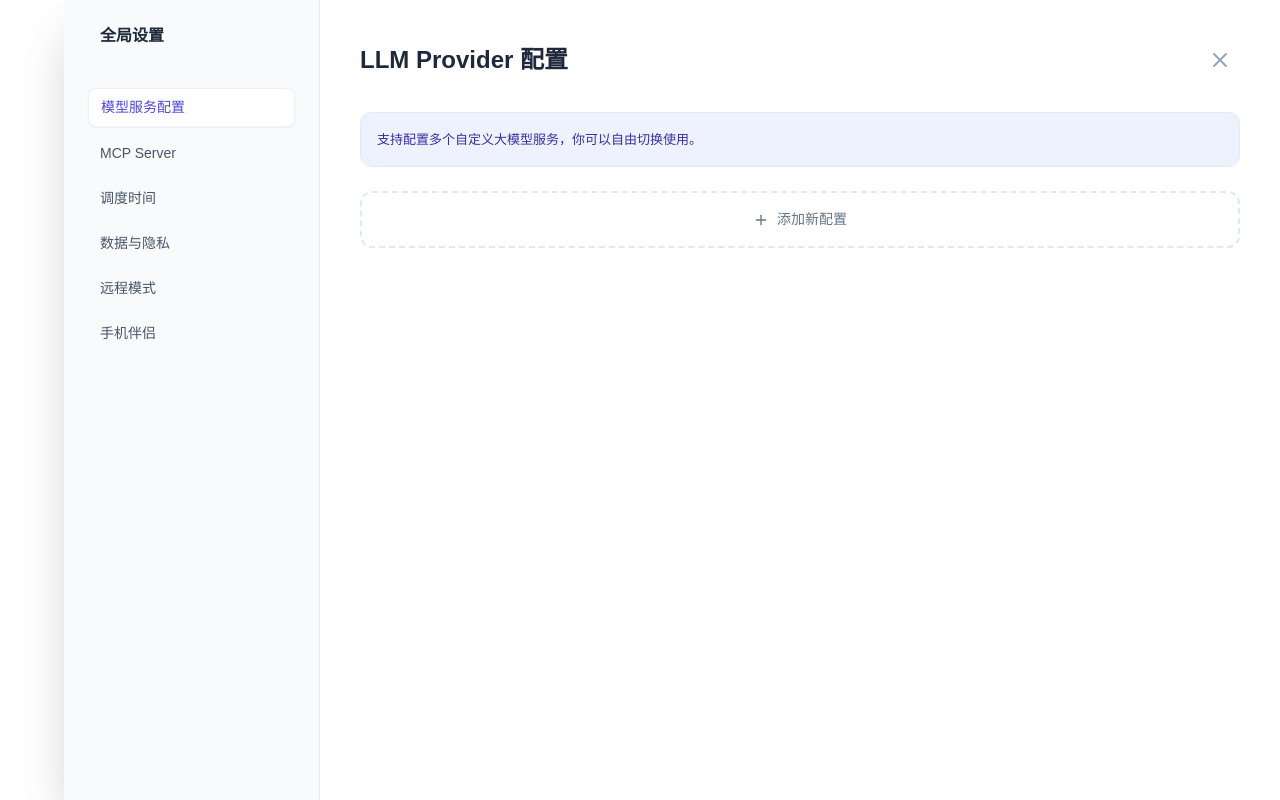
GlobalSettingsModal › 运行时刷新失败时保留已保存结果并提示重试或重启
Step 1. Click the button "添加新配置" → (800, 220), box [360,191,1240,248]
(page scrolled)
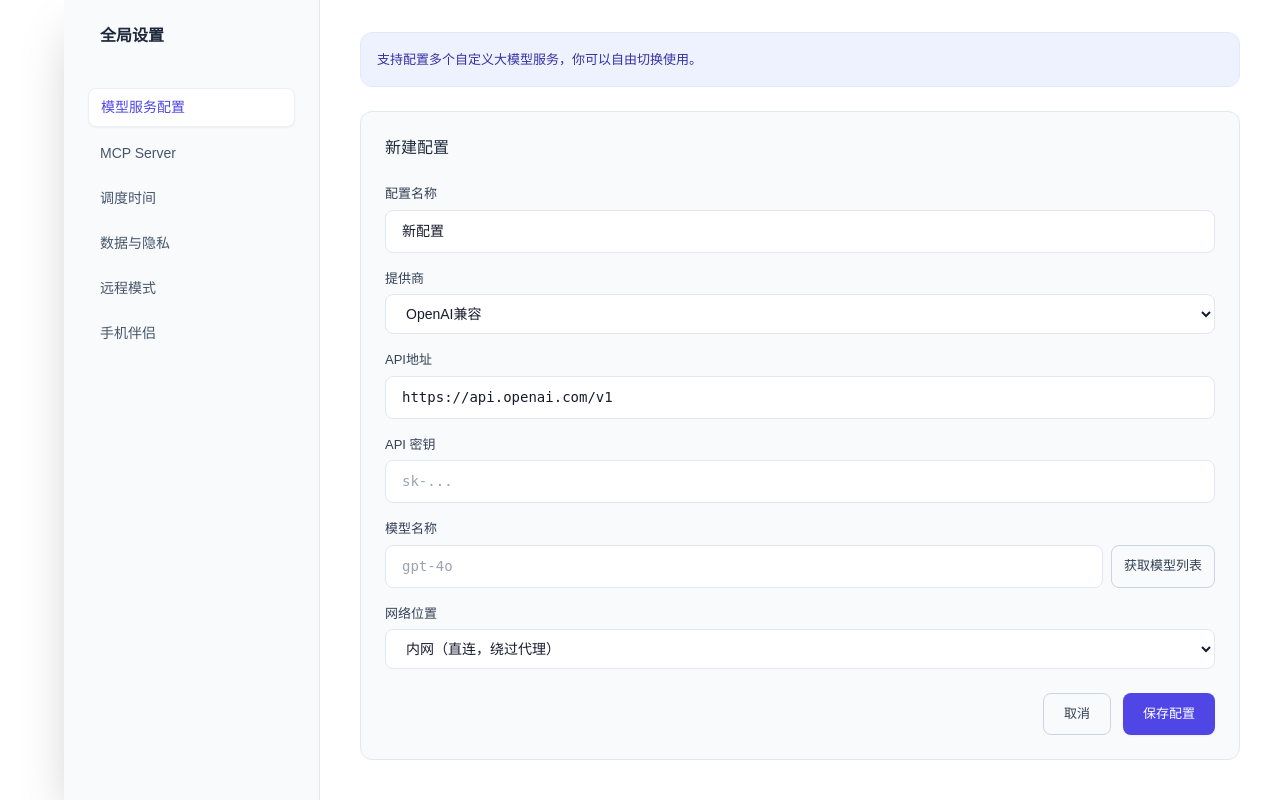
Step 2. Click the button "保存配置" → (1169, 714), box [1123,693,1215,735]
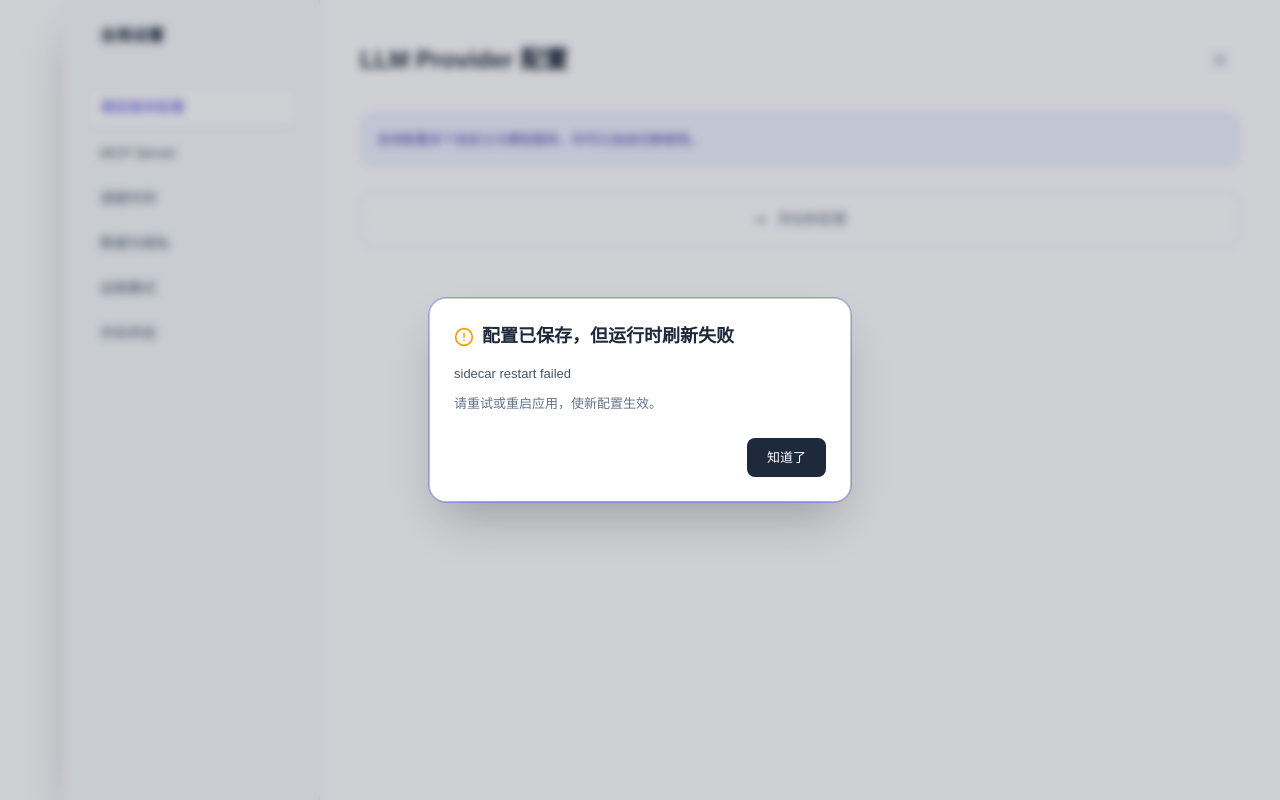
Check: the heading "配置已保存，但运行时刷新失败" is shown, box [454,326,734,346]
Check: the text "请重试或重启应用，使新配置生效。" is shown, box [454,396,662,411]
Check: the heading "新建配置" is gone
